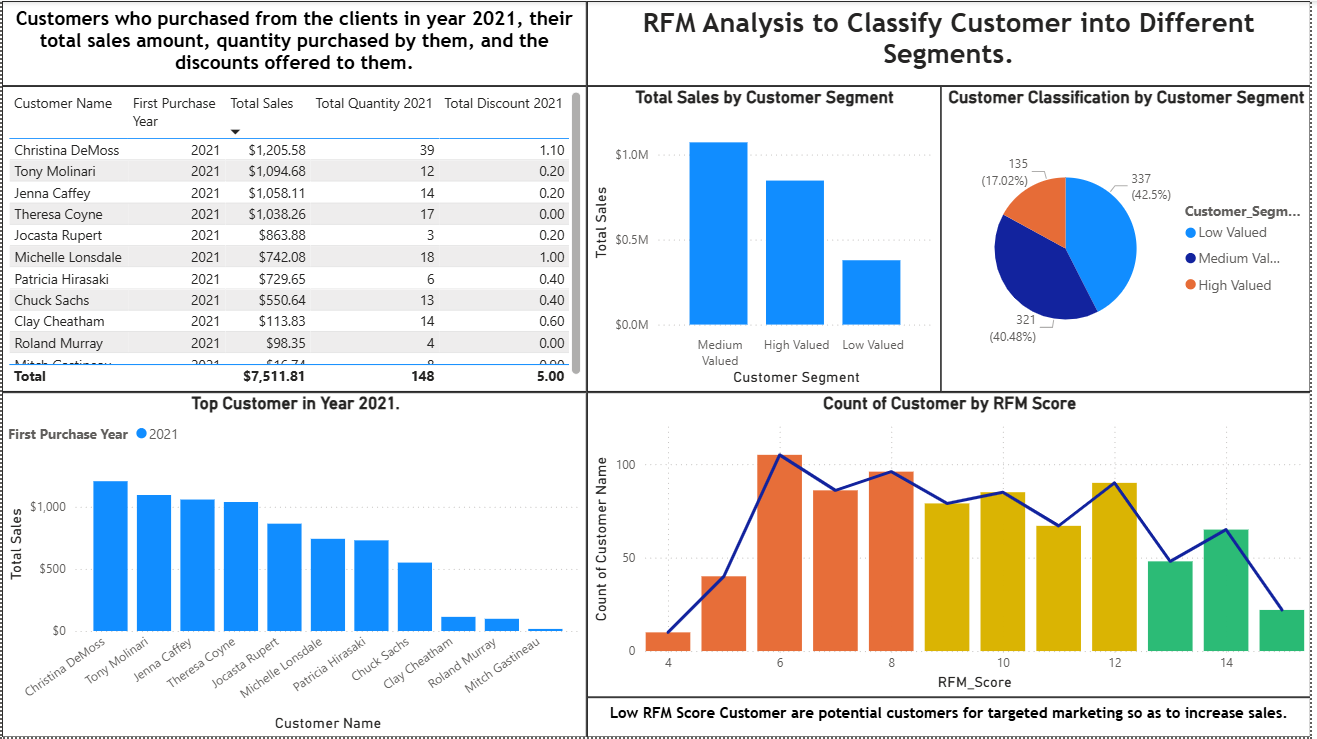

This screenshot's page, from the dashboard's own definition file:
{"tool":"powerbi","page":{"name":"Page 3","canvas":[1280,720],"ordinal":2},"visuals":[{"type":"tableEx","fields":{"Values":["Customer.Customer Name","Orders.First Purchase Year","Orders.Total Sales","Orders.Total Quantity 2021","Orders.Total Discount 2021"]},"box":[0,83.2,572.3,299.6],"z":0},{"type":"textbox","box":[0,0,572.3,83.2],"z":1000},{"type":"clusteredColumnChart","title":"Top Customer in Year 2021.","fields":{"Category":["Customer.Customer Name"],"Series":["Orders.First Purchase Year"],"Y":["Orders.Total Sales"]},"box":[0,382.7,572.3,337.5],"z":2000},{"type":"pieChart","title":"Customer Classification  by Customer Segment","fields":{"Category":["Customer.Customer_Segment"],"Y":["Customer.Customer ID"]},"box":[918.3,83.2,362,299.6],"z":3000},{"type":"clusteredColumnChart","title":"Total Sales by Customer Segment","fields":{"Category":["Customer.Customer_Segment"],"Y":["Orders.Total Sales"]},"box":[572.3,83.2,346.1,299.6],"z":4000},{"type":"lineStackedColumnComboChart","title":"Count of Customer by RFM Score","fields":{"Category":["Customer.RFM_Score"],"Y":["Customer.Customer Name"],"Y2":["Customer.Customer Name"]},"box":[572.3,382.7,708,298.4],"z":5000},{"type":"textbox","box":[572.3,0,708,83.2],"z":6000},{"type":"textbox","box":[572.3,681.1,708,39.1],"z":7000}]}

Visuals, with their boxes in screenshot pixels (x1, y1, x2, y2), scaled from the page's 1280x720 canvas onto the 1317x739 screenshot:
tableEx - Customer.Customer Name x Orders.First Purchase Year: [0,85,589,393]
textbox: [0,0,589,85]
"Top Customer in Year 2021." clusteredColumnChart: [0,393,589,738]
"Customer Classification  by Customer Segment" pieChart: [945,85,1316,393]
"Total Sales by Customer Segment" clusteredColumnChart: [589,85,945,393]
"Count of Customer by RFM Score" lineStackedColumnComboChart: [589,393,1316,699]
textbox: [589,0,1316,85]
textbox: [589,699,1316,738]
